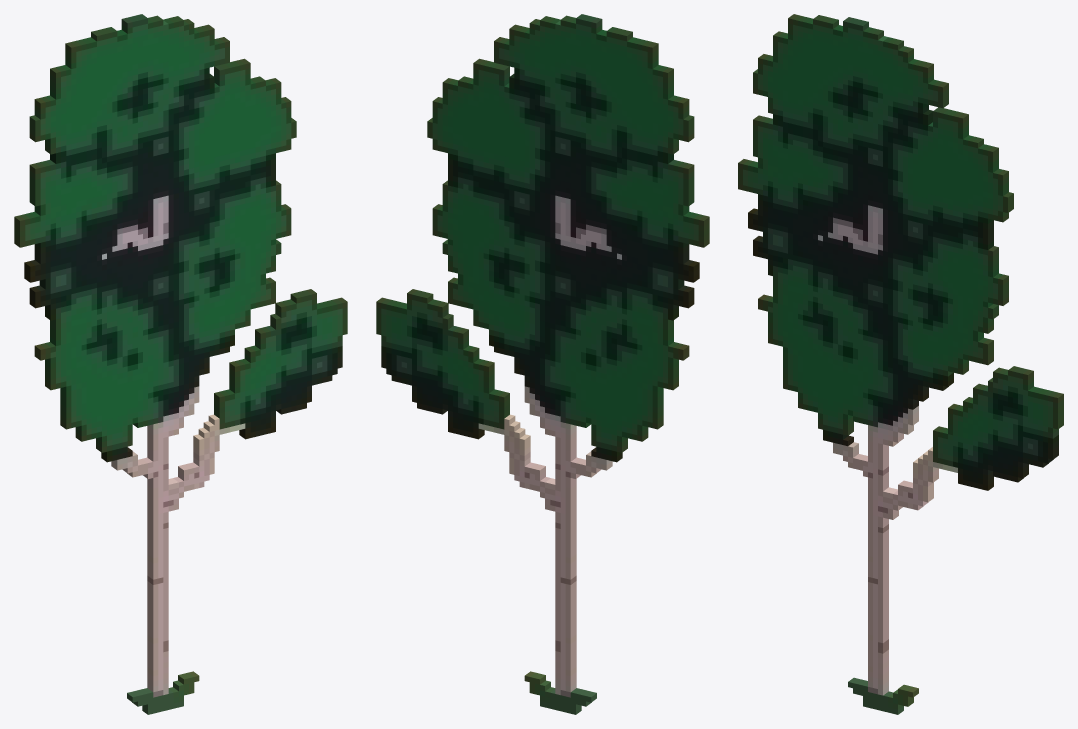
The model's file is Arbre.obj.
3 renders of one model, left to right at view 1: azimuth 30°, elevation 25°; view 2: azimuth 150°, elevation 25°; view 3: azimuth 330°, elevation 25°, orthographic. The views are drawn at different scales.
Size of the model in its own units: 6.4 by 13 by 0.2.
Materials: 1 (1 with a texture image).
